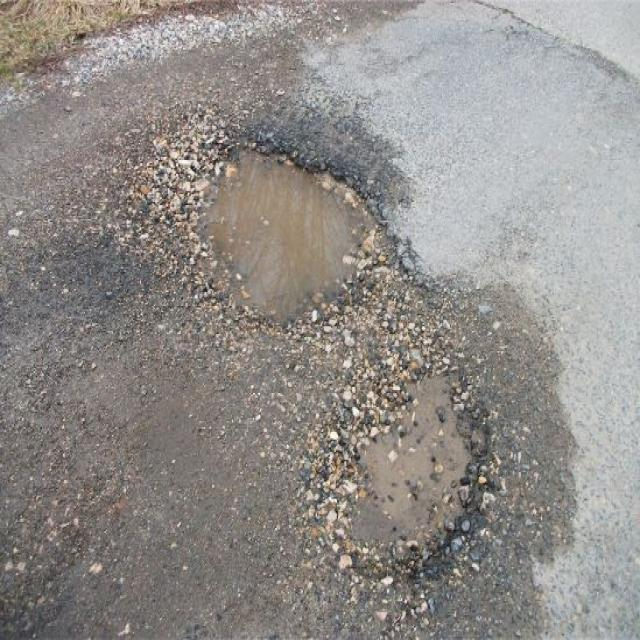pothole: (314, 344, 496, 580), (184, 128, 390, 332)
